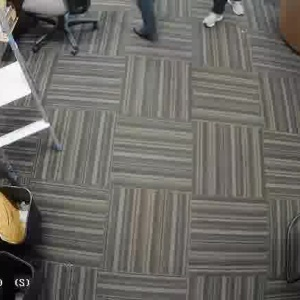person: (203, 0, 244, 36), (135, 0, 158, 45)
